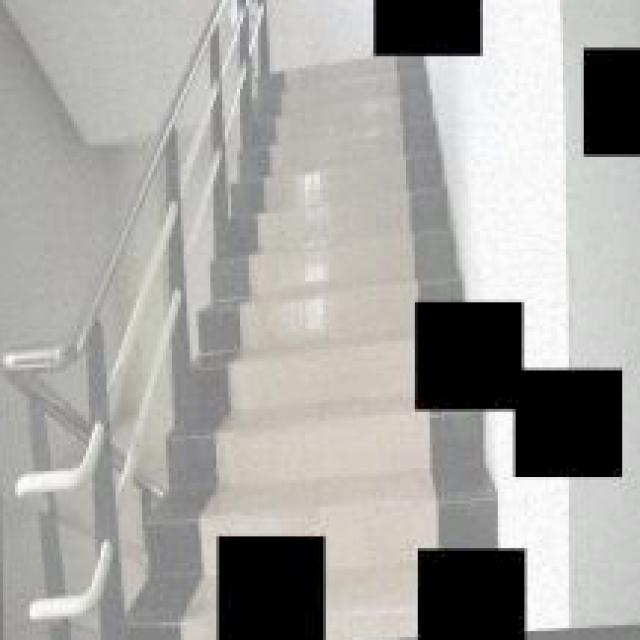upstair: (224, 90, 449, 291), (191, 336, 413, 511)
